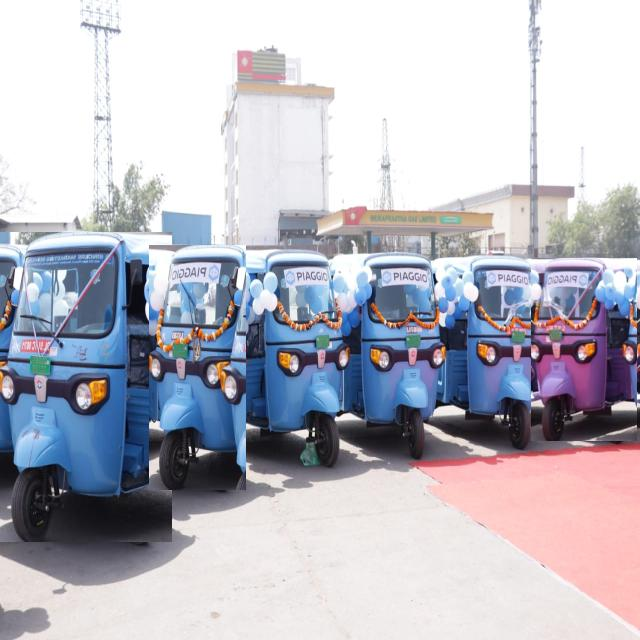autorickshaw: (0, 232, 172, 542), (236, 251, 350, 464), (149, 245, 246, 490), (331, 253, 446, 457), (433, 255, 545, 447), (532, 259, 637, 441)
